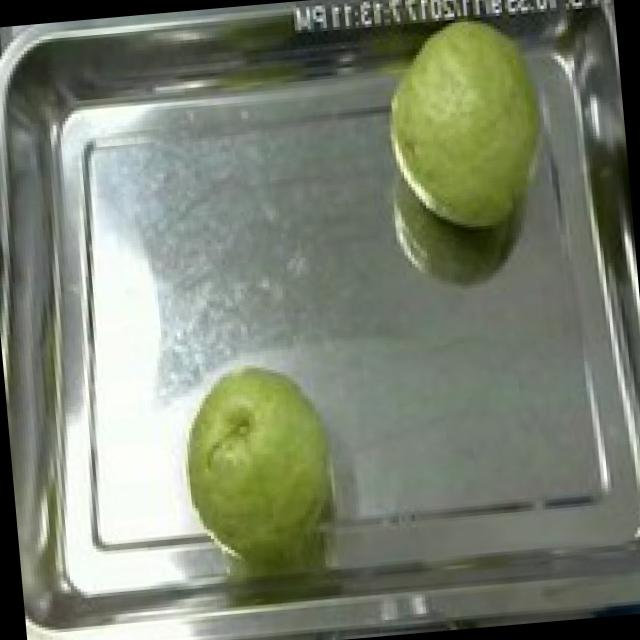Fruit: (363, 0, 572, 247), (163, 348, 357, 574)
